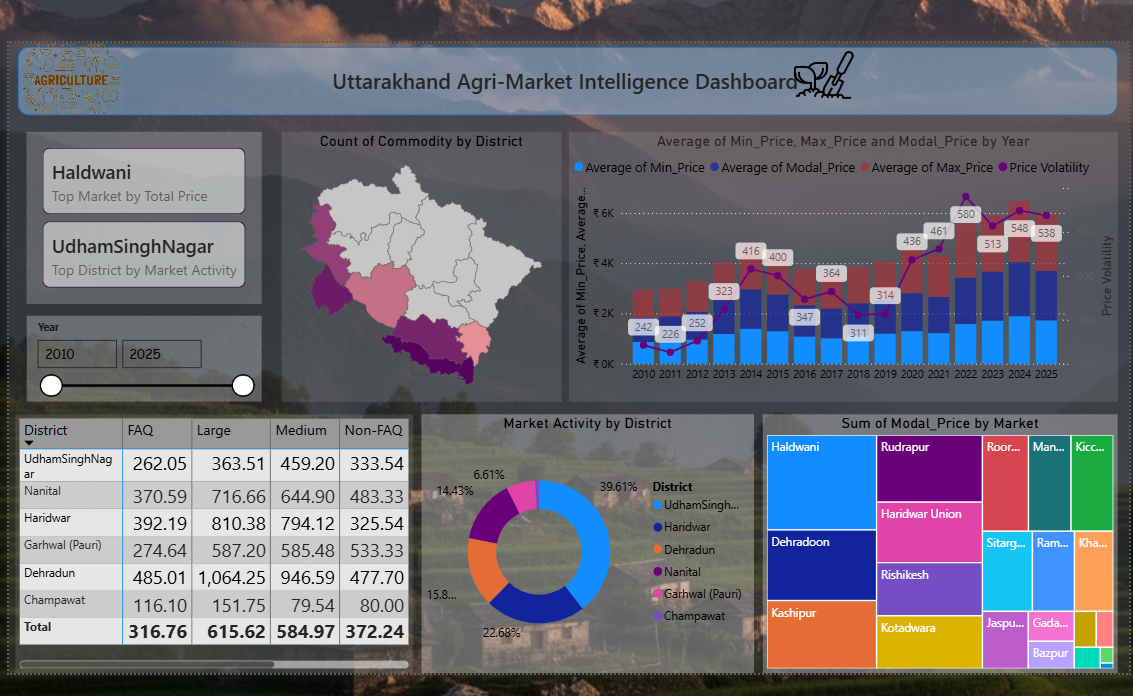

This screenshot's page, from the dashboard's own definition file:
{"tool":"powerbi","page":{"name":"Page 9","canvas":[1280,720],"ordinal":7},"visuals":[{"type":"donutChart","fields":{"Category":["Uttarakhand.District"],"Y":["Uttarakhand.Market Activity"]},"box":[471.4,424.3,380,295.7],"z":0},{"type":"treemap","fields":{"Group":["Uttarakhand.Market"],"Values":["Sum(Uttarakhand.Modal_Price)"]},"box":[861.4,424.3,405.7,295.7],"z":1000},{"type":"lineStackedColumnComboChart","title":"Average of Min_Price, Max_Price and Modal_Price by Year","fields":{"Category":["Uttarakhand.Arrival_Date.Variation.Date Hierarchy.Year","Uttarakhand.Arrival_Date.Variation.Date Hierarchy.Month"],"Y":["Avg(Uttarakhand.Min_Price)","Avg(Uttarakhand.Modal_Price)","Avg(Uttarakhand.Max_Price)"],"Y2":["Uttarakhand.Price Volatility"]},"box":[640,101.4,627.1,308.6],"z":2000},{"type":"shape","box":[10,4.3,1257.1,78.6],"z":3000},{"type":"textbox","box":[364.3,4.3,605.7,68.6],"z":4000},{"type":"image","box":[10,0,121.9,79.6],"z":5000},{"type":"image","box":[851.4,0,160,72.9],"z":6000},{"type":"pivotTable","fields":{"Rows":["Uttarakhand.District"],"Values":["Uttarakhand.DistrictAvgVolatility"],"Columns":["Uttarakhand.Grade"]},"box":[7.1,424.3,454.3,295.7],"z":7000},{"type":"cardVisual","fields":{"Data":["Uttarakhand.Top Market by Total Price","Uttarakhand.Top District by Market Activity"]},"box":[20,101.4,268.6,197.1],"z":8000},{"type":"shapeMap","fields":{"Category":["Uttarakhand.District"],"Value":["Count(Uttarakhand.Commodity)"]},"box":[311.4,101.4,320,308.6],"z":9000},{"type":"slicer","fields":{"Values":["Uttarakhand.Year"]},"box":[20,311.2,268.8,98.8],"z":10000}]}

Visuals, with their boxes on the page's 1280x720 design canvas (x1, y1, x2, y2). These are canvas units, not pixel positions in the 1133x696 screenshot, which may show the page scaled, cropped or inside an application window:
donutChart - Uttarakhand.District x Uttarakhand.Market Activity: <region>471, 424, 851, 720</region>
treemap - Uttarakhand.Market x Sum(Uttarakhand.Modal_Price): <region>861, 424, 1267, 720</region>
"Average of Min_Price, Max_Price and Modal_Price by Year" lineStackedColumnComboChart: <region>640, 101, 1267, 410</region>
shape: <region>10, 4, 1267, 83</region>
textbox: <region>364, 4, 970, 73</region>
image: <region>10, 0, 132, 80</region>
image: <region>851, 0, 1011, 73</region>
pivotTable - Uttarakhand.District x Uttarakhand.DistrictAvgVolatility: <region>7, 424, 461, 720</region>
cardVisual - Uttarakhand.Top Market by Total Price x Uttarakhand.Top District by Market Activity: <region>20, 101, 289, 298</region>
shapeMap - Uttarakhand.District x Count(Uttarakhand.Commodity): <region>311, 101, 631, 410</region>
slicer - Uttarakhand.Year: <region>20, 311, 289, 410</region>
